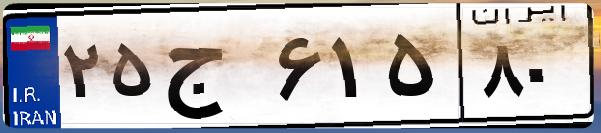0: (525, 38, 570, 115)
1: (330, 28, 385, 110)
2: (57, 26, 110, 100)
5: (385, 28, 445, 110), (110, 28, 158, 98)
6: (270, 28, 330, 110)
8: (475, 38, 525, 113)
ج: (158, 20, 270, 120)
